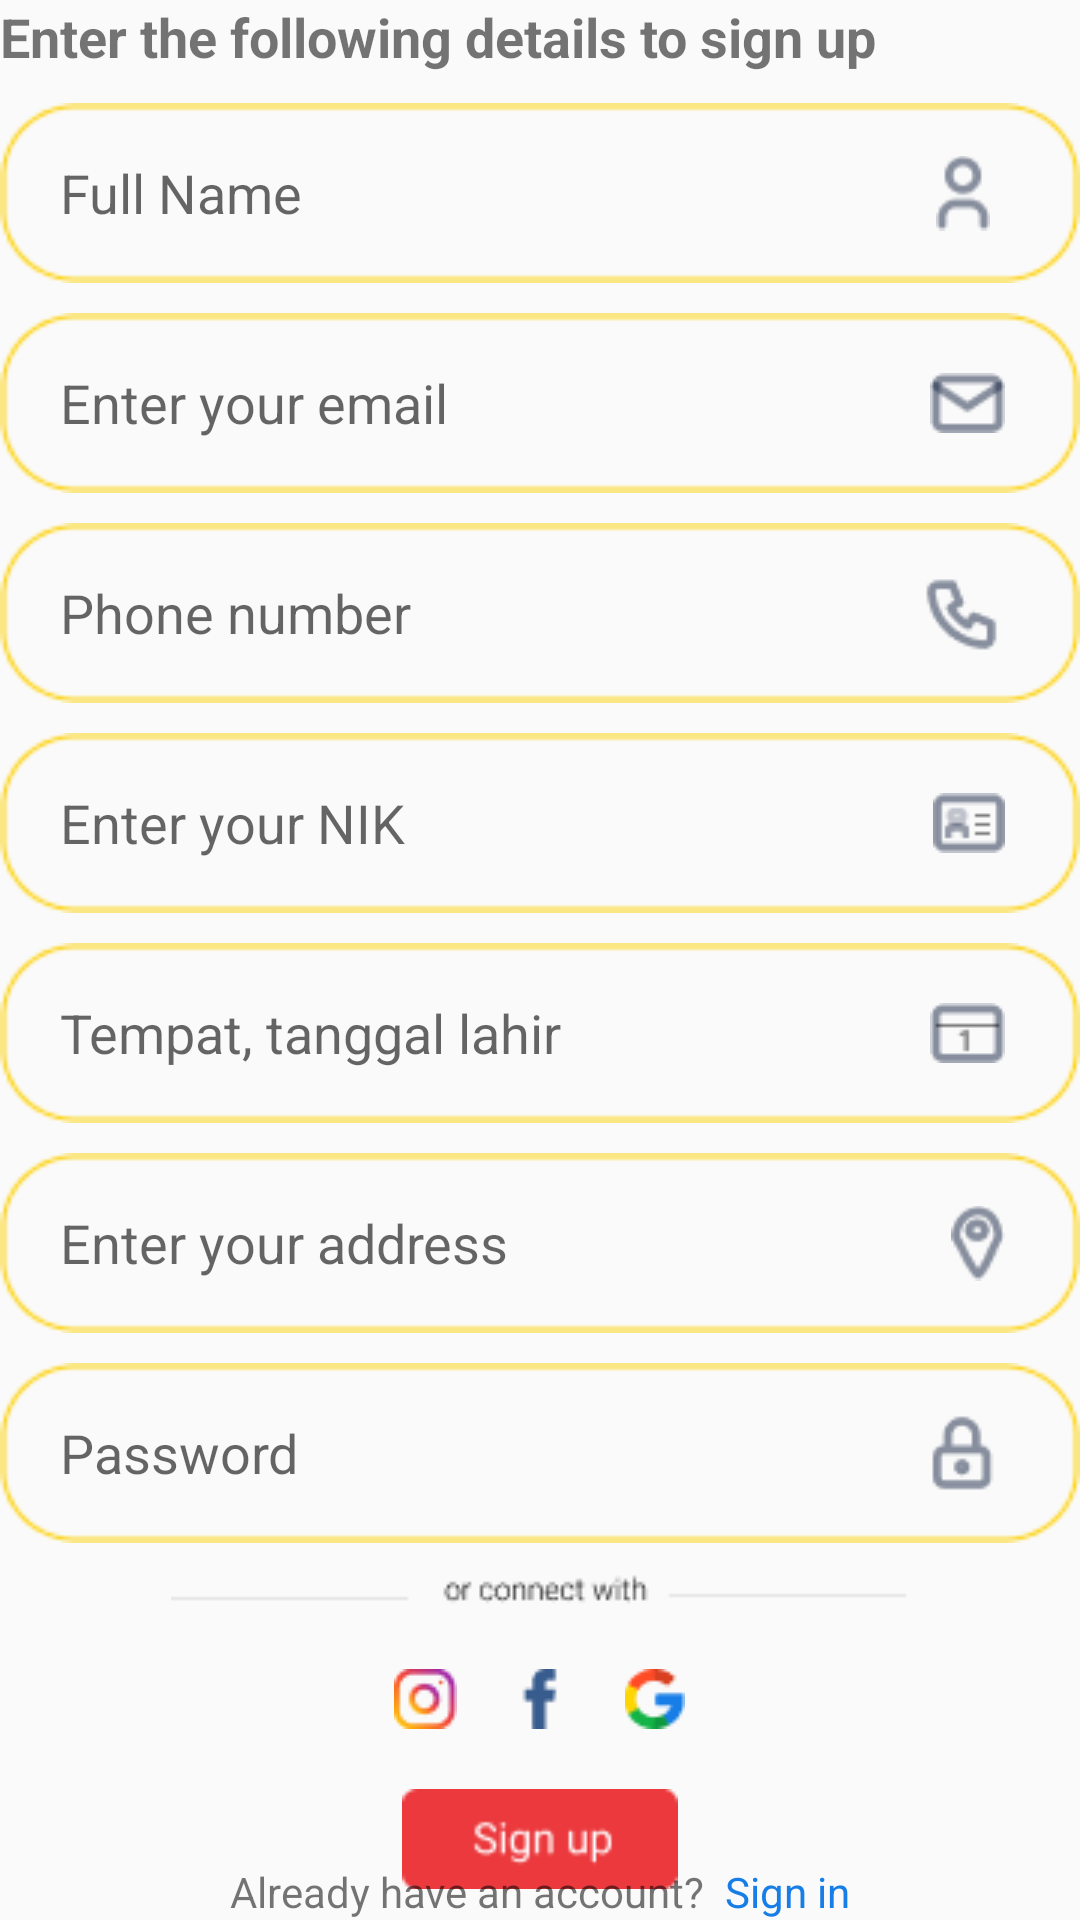

Where icons sit on this 1080*1920 app screen, as BBox(x1, y1, x2, y2):
user: BBox(936, 156, 990, 231)
